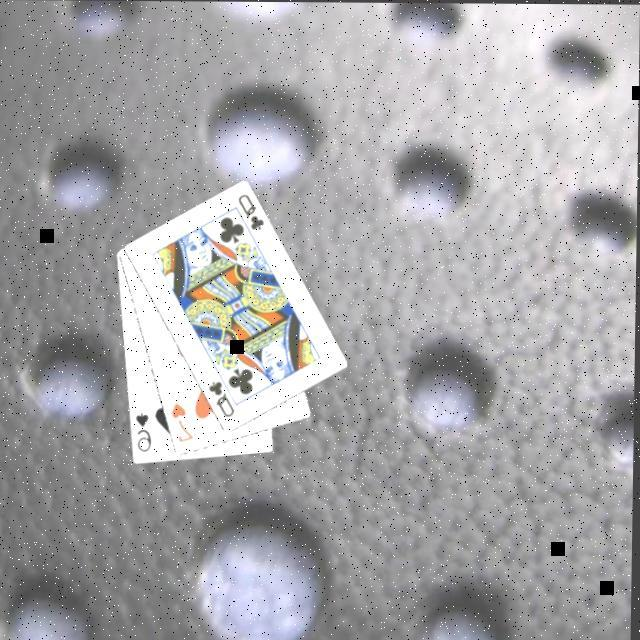7H: (171, 398, 200, 444)
9S: (134, 408, 158, 454)
QC: (237, 190, 270, 232), (208, 377, 240, 419)
